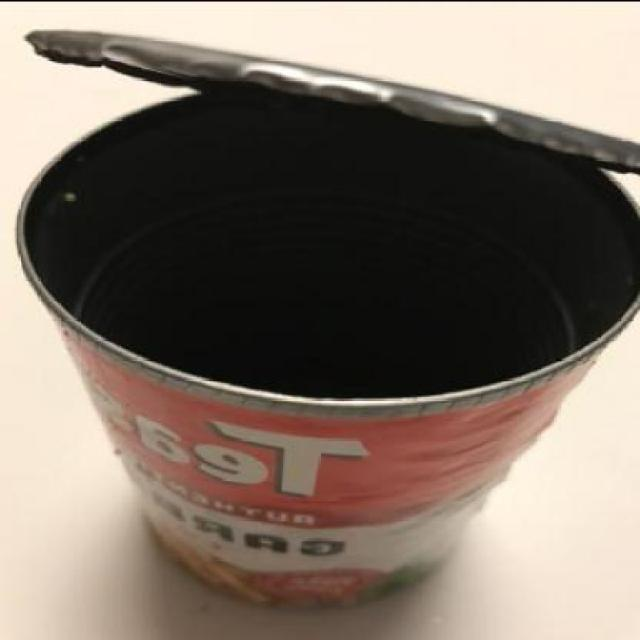METAL: (14, 88, 638, 606), (21, 25, 638, 172)
